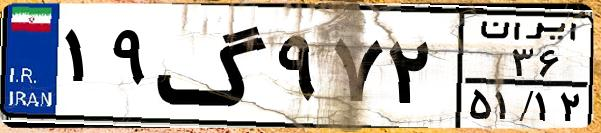1: (57, 26, 110, 100), (495, 70, 520, 125), (535, 70, 560, 125)
2: (385, 28, 445, 110), (560, 70, 590, 125)
3: (508, 27, 537, 80)
5: (470, 70, 495, 125)
6: (537, 27, 568, 80)
7: (330, 28, 385, 110)
9: (270, 28, 330, 110), (110, 28, 156, 98)
گ: (156, 12, 270, 120)
